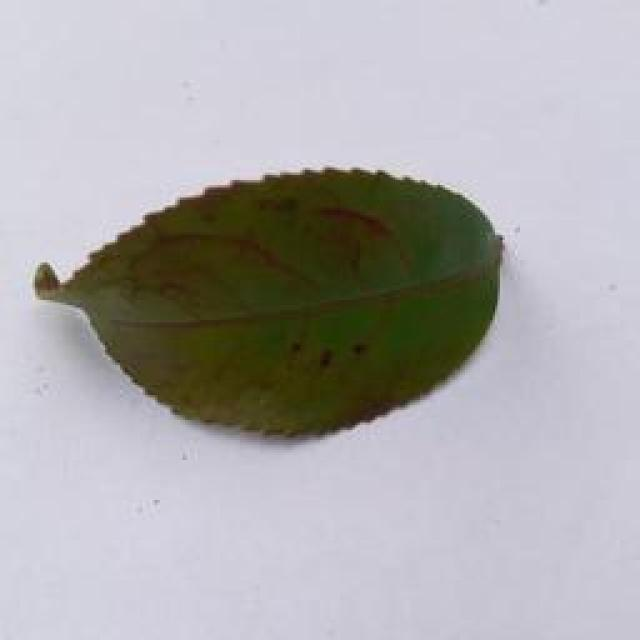Red Leaf Spot: (26, 141, 552, 454)
